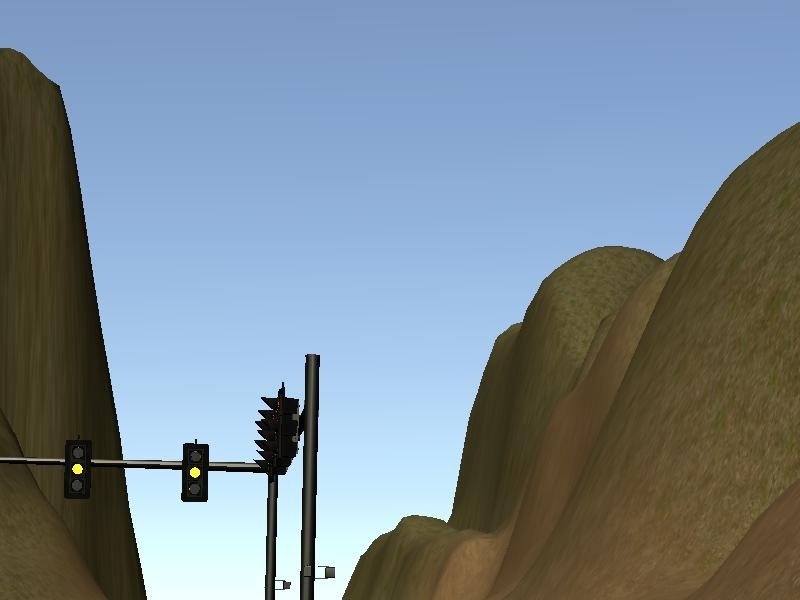yellow: (182, 443, 210, 504), (65, 441, 92, 501)
